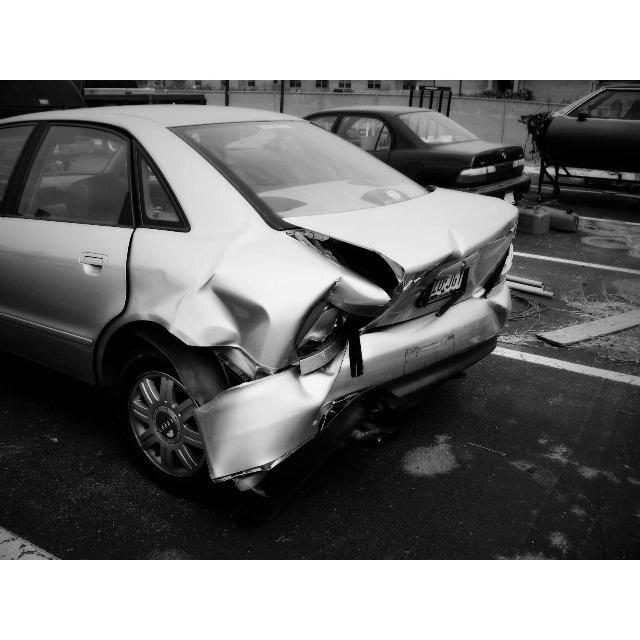boot-dent: (331, 203, 526, 317)
quaterpanel-dent: (117, 240, 287, 390)
rear-bumper-dent: (251, 288, 508, 428)
